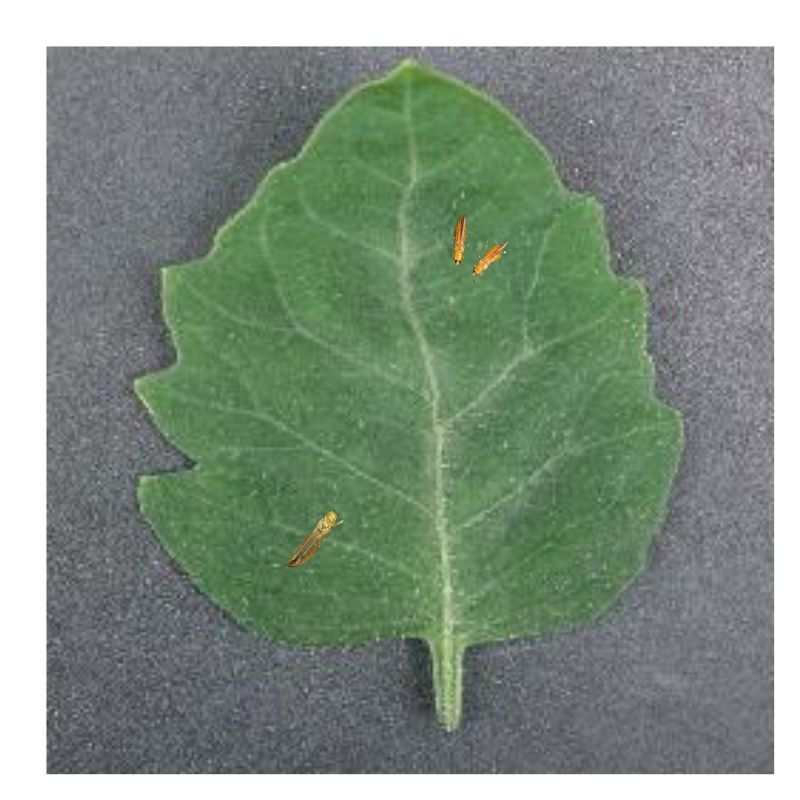thrips: (283, 508, 344, 570), (470, 238, 509, 283), (450, 213, 467, 267)
